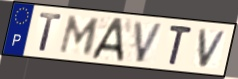A: (89, 17, 126, 63)
M: (57, 14, 102, 56)
T: (167, 23, 194, 67), (37, 12, 63, 54)
V: (133, 19, 166, 64), (198, 28, 230, 70)
